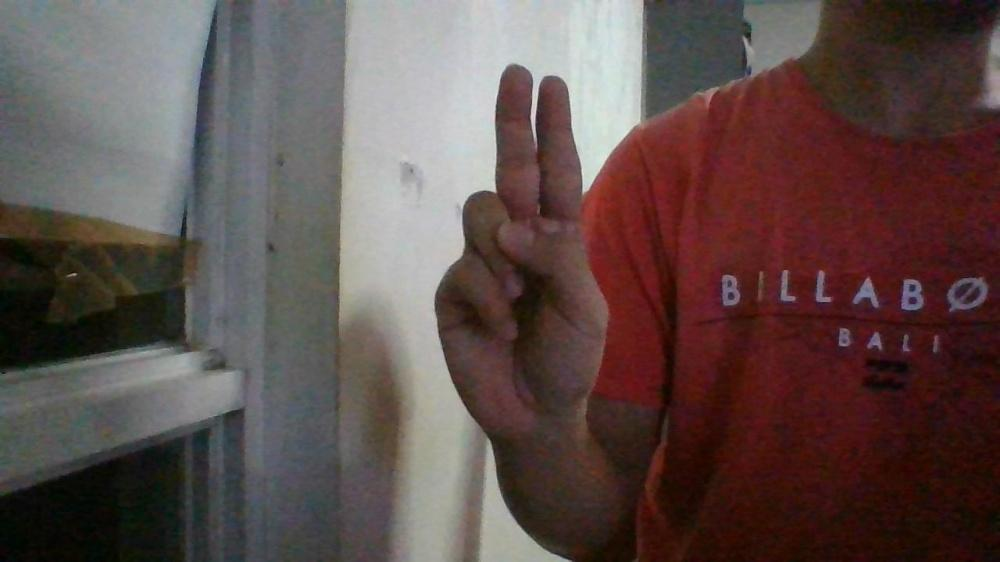u: (432, 64, 611, 439)
